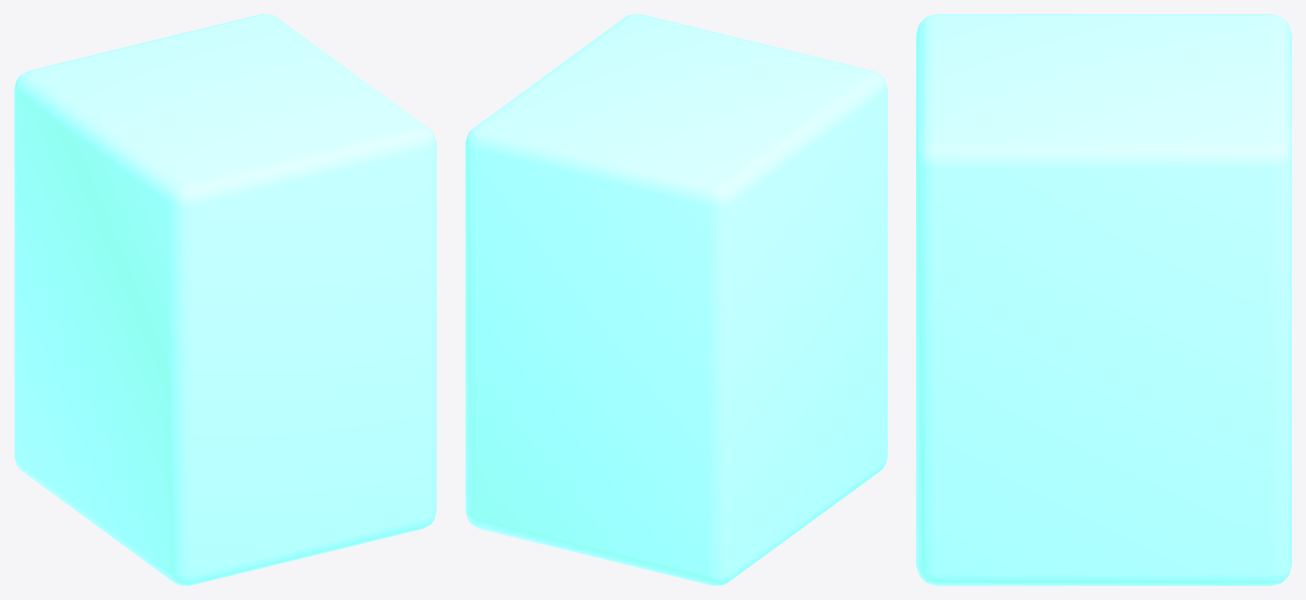
The model's file is garage-crt-monitor.glb.
3 renders of one model, left to right at view 1: azimuth 30°, elevation 25°; view 2: azimuth 150°, elevation 25°; view 3: azimuth 270°, elevation 25°, orthographic. The views are drawn at different scales.
Parts seen in each view (by area): view 1: CrtMonitor.001; view 2: CrtMonitor.001; view 3: CrtMonitor.001.
Boxes of the visible parts, bbox=[...] form: CrtMonitor.001: bbox=[14, 14, 436, 585]; CrtMonitor.001: bbox=[465, 14, 887, 585]; CrtMonitor.001: bbox=[916, 14, 1291, 585].
Bounding box in the file's own units: 0.36 × 0.52 × 0.4.
